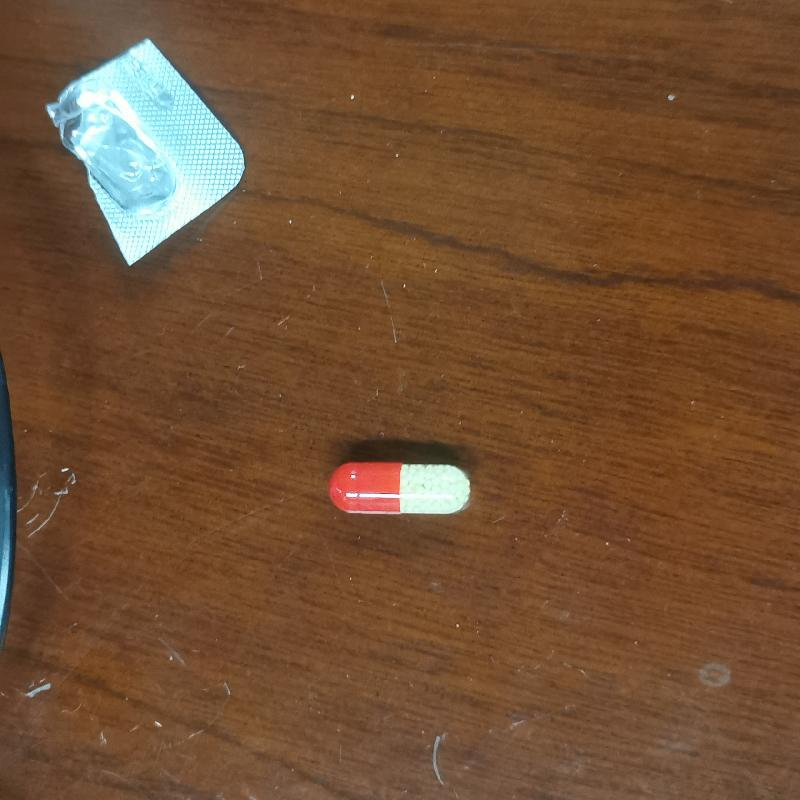pills: (319, 455, 476, 531)
